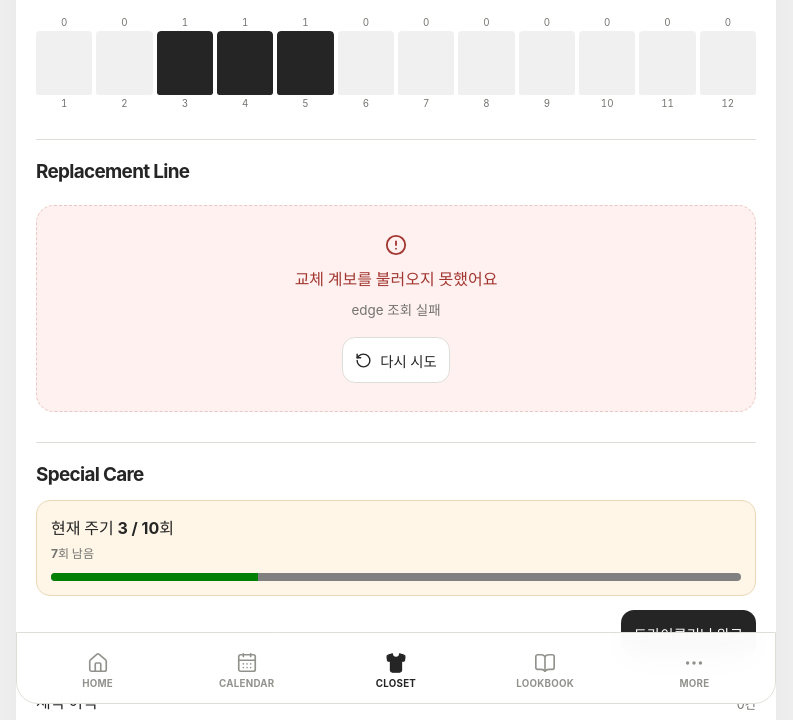
it: ItemDetailPage Replacement Line › keeps the rest of Item detail usable when edge loading fails and retries locally
(page scrolled)
Check: the text "edge 조회 실패" is shown, box [351,300,441,321]
Click the button "다시 시도": (396, 360) [342,337,450,383]
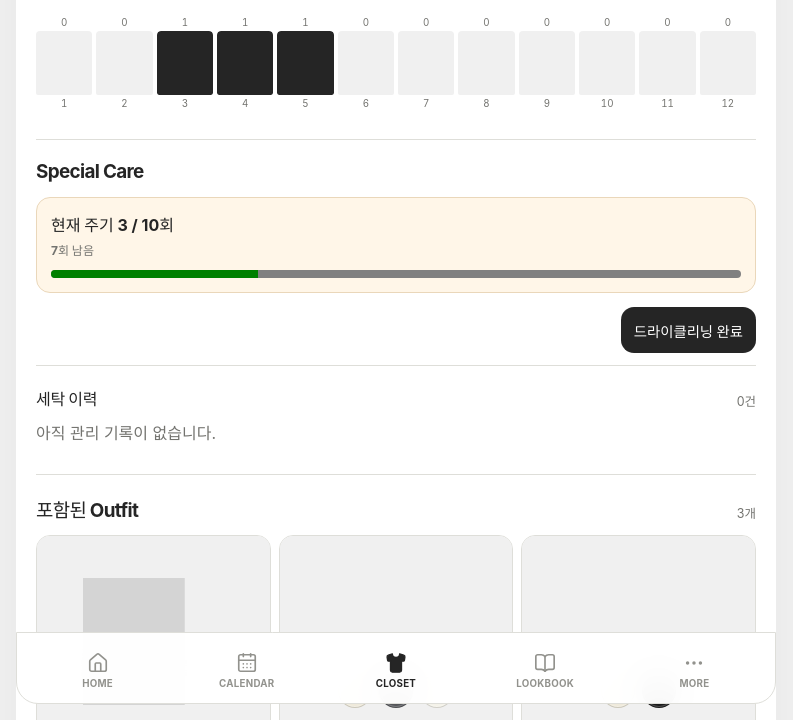
Check: the text "edge 조회 실패" is gone
